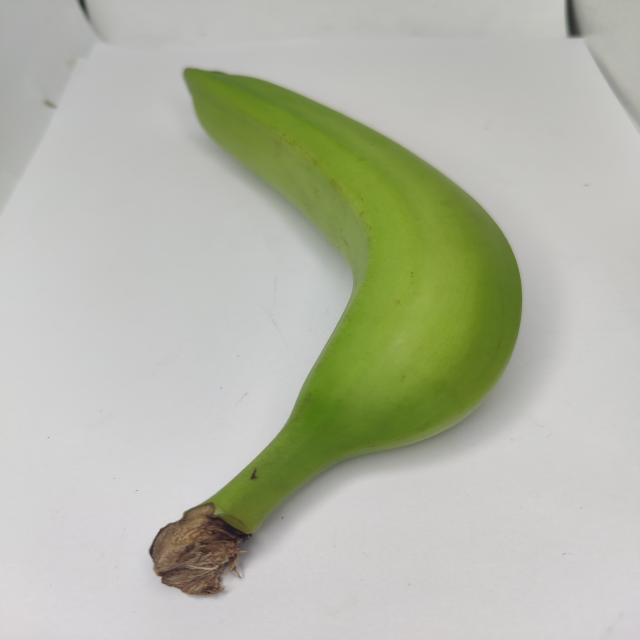raw: (107, 53, 530, 601)
